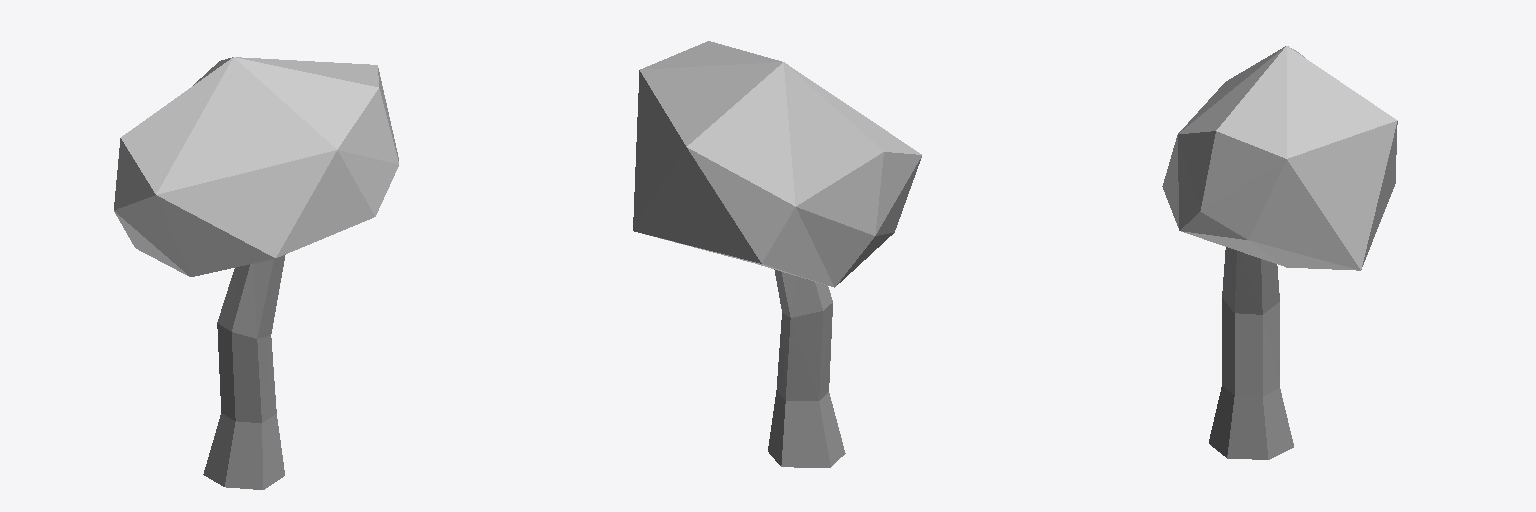
The model's file is tree01.obj.
The picture shows the model from 3 angles: view 1: azimuth 30°, elevation 25°; view 2: azimuth 150°, elevation 25°; view 3: azimuth 270°, elevation 25°; orthographic projection.
Parts seen in each view (by area): view 1: Icosphere, Cube; view 2: Icosphere, Cube; view 3: Icosphere, Cube.
Boxes of the visible parts, box(x1,y1,x2,y2) form: Icosphere: box(114, 57, 398, 276); Cube: box(203, 254, 285, 489); Icosphere: box(633, 41, 921, 287); Cube: box(768, 269, 845, 467); Icosphere: box(1162, 46, 1397, 270); Cube: box(1209, 247, 1293, 459).
Size of the model in its own units: 1.54 by 2.33 by 1.23.